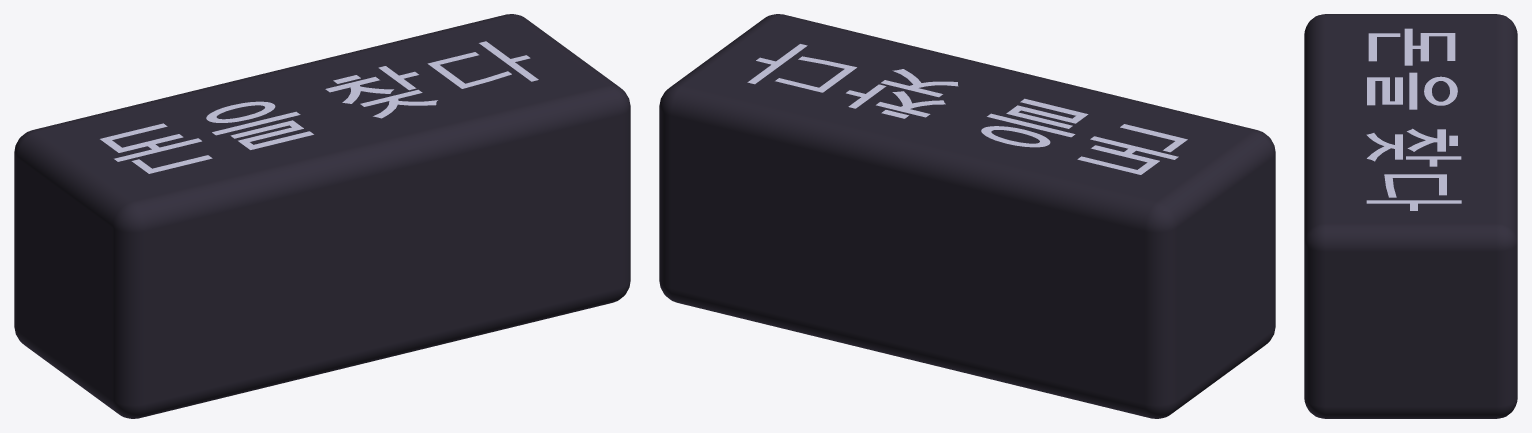
File: withdraw_money.glb
The picture shows the model from 3 angles, left to right: view 1: azimuth 30°, elevation 25°; view 2: azimuth 150°, elevation 25°; view 3: azimuth 270°, elevation 25°; orthographic projection. The views are drawn at different scales.
Visible parts, largest first — view 1: Cut, Extrude; view 2: Cut, Extrude; view 3: Cut, Extrude.
Part boxes in pixels (x1,y1,x2,y2): Cut: (14, 14, 630, 418); Extrude: (100, 41, 538, 173); Cut: (659, 14, 1275, 418); Extrude: (747, 44, 1187, 174); Cut: (1304, 14, 1517, 418); Extrude: (1366, 28, 1461, 210).
Bounding box in the file's own units: 5 × 2 × 2.
